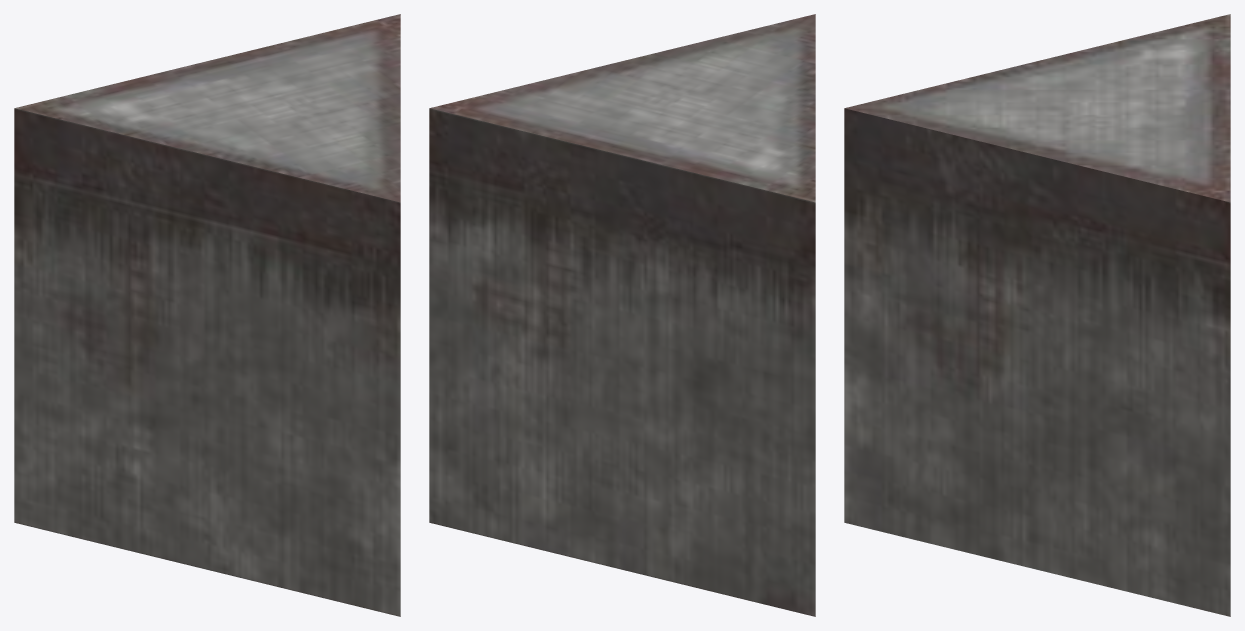
Rendered from armored_foundation_triangle_high_textured.glb.
3 views of the same model, side by side, from view 1: azimuth 30°, elevation 25°; view 2: azimuth 150°, elevation 25°; view 3: azimuth 270°, elevation 25° (orthographic).
Parts seen in each view (by area): view 1: Circle; view 2: Circle; view 3: Circle.
Part boxes in pixels (bbox=[...]): Circle: bbox=[14, 14, 400, 616]; Circle: bbox=[429, 14, 815, 616]; Circle: bbox=[844, 14, 1230, 616].
Bounding box in the file's own units: 2 × 2.05 × 1.73.
Materials: 1 (1 with a texture image).
